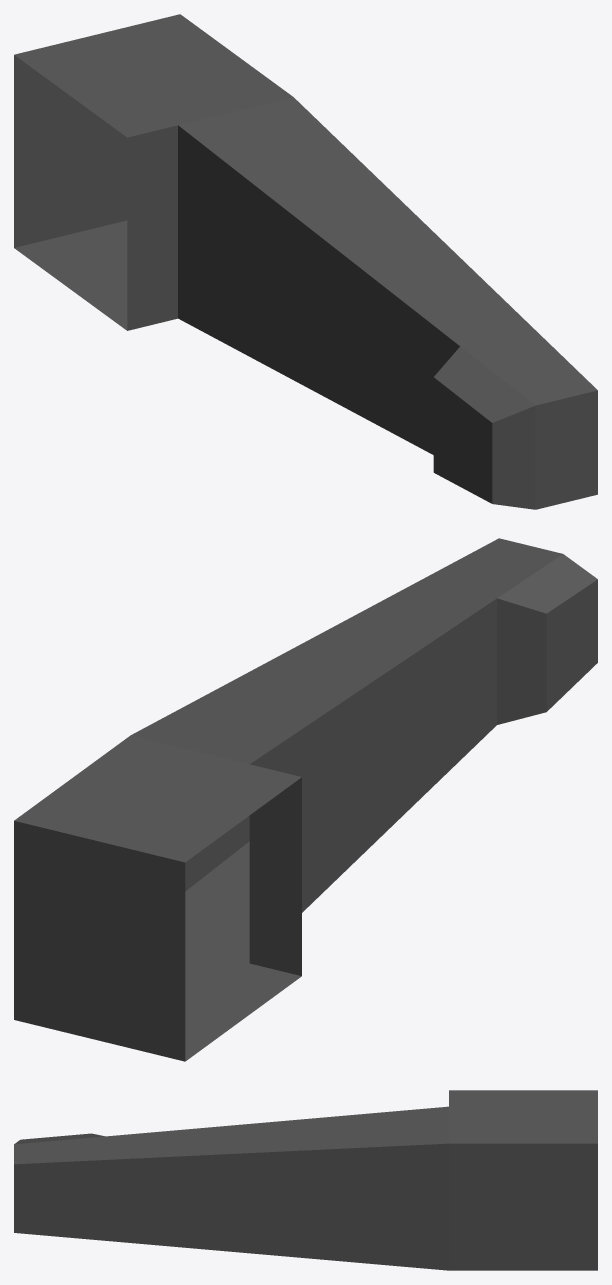
The model's file is door_handle.glb.
3 renders of one model, top to bottom at view 1: azimuth 30°, elevation 25°; view 2: azimuth 150°, elevation 25°; view 3: azimuth 270°, elevation 25°, orthographic. The views are drawn at different scales.
Parts seen in each view (by area): view 1: Handle; view 2: Handle; view 3: Handle.
Part boxes in pixels (x1=…): Handle: x1=14, y1=14, x2=597, y2=509; Handle: x1=14, y1=538, x2=597, y2=1061; Handle: x1=14, y1=1090, x2=597, y2=1270.
Bounding box in the file's own units: 0.0214 × 0.0238 × 0.099.
Materials: 1 (1 with a texture image).
